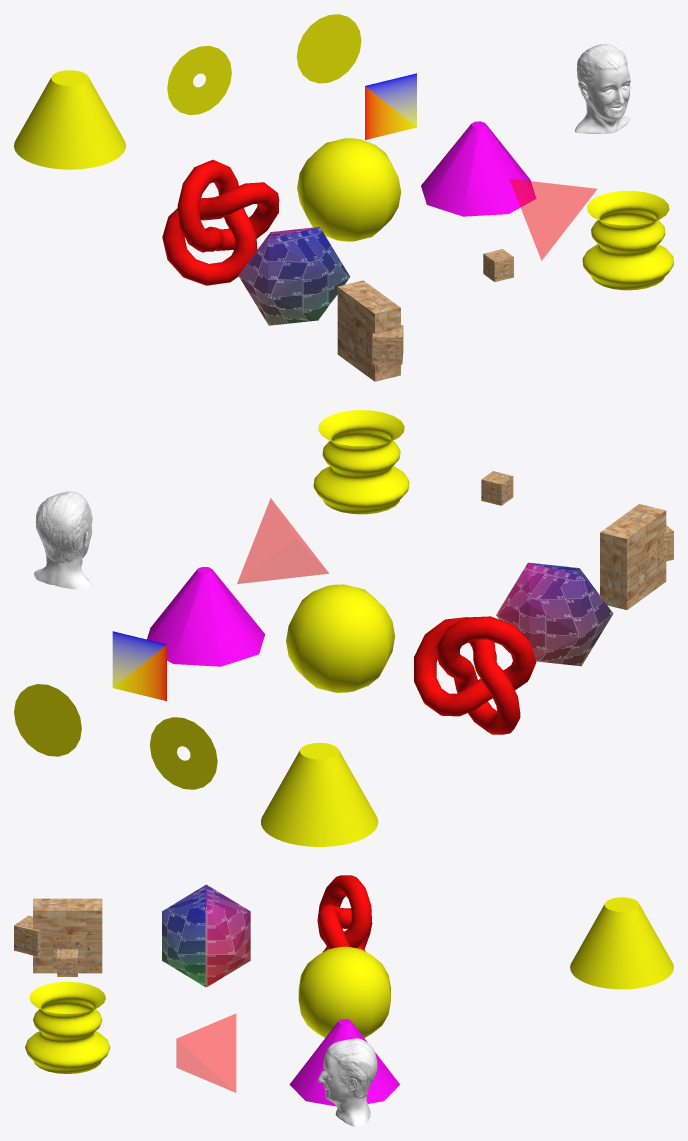
3 views of the same model, one above another, from view 1: azimuth 30°, elevation 25°; view 2: azimuth 150°, elevation 25°; view 3: azimuth 270°, elevation 25° (orthographic). The views are drawn at different scales.
Visible parts, largest first — view 1: Cylinder (×2), Sphere, Icosahedron, object 12, object 13, Cube, Mesh_Mesh_head_geo.001_lambert2SG.001, Tetrahedron, object 10, object 11, Custom buffered truncated, SubCube (+1 smaller); view 2: Cylinder (×2), Sphere, object 12, object 13, Icosahedron, Cube, Mesh_Mesh_head_geo.001_lambert2SG.001, Tetrahedron, object 10, object 11, Custom buffered truncated, Cube in group; view 3: Icosahedron, Sphere, object 12, object 13, Cylinder (×2), Cube, Mesh_Mesh_head_geo.001_lambert2SG.001, Tetrahedron, SubCube, Cube in group.
Part boxes in pixels (left/top/right/bottom): Cylinder (×2): left=162, top=121, right=536, bottom=285; Sphere: left=297, top=138, right=401, bottom=241; Icosahedron: left=238, top=227, right=349, bottom=325; object 12: left=14, top=70, right=125, bottom=169; object 13: left=582, top=190, right=673, bottom=290; Cube: left=337, top=280, right=400, bottom=381; Mesh_Mesh_head_geo.001_lambert2SG.001: left=575, top=44, right=630, bottom=133; Tetrahedron: left=509, top=179, right=596, bottom=260; object 10: left=296, top=14, right=361, bottom=83; object 11: left=167, top=45, right=231, bottom=114; Custom buffered truncated: left=365, top=73, right=416, bottom=139; SubCube: left=372, top=325, right=403, bottom=364; Cylinder (×2): left=147, top=567, right=536, bottom=734; Sphere: left=286, top=584, right=394, bottom=692; object 12: left=261, top=743, right=378, bottom=846; object 13: left=313, top=410, right=409, bottom=514; Icosahedron: left=496, top=562, right=613, bottom=666; Cube: left=600, top=504, right=666, bottom=609; Mesh_Mesh_head_geo.001_lambert2SG.001: left=34, top=491, right=92, bottom=589; Tetrahedron: left=237, top=498, right=328, bottom=583; object 10: left=14, top=684, right=81, bottom=756; object 11: left=150, top=717, right=217, bottom=789; Custom buffered truncated: left=112, top=631, right=166, bottom=701; Cube in group: left=481, top=471, right=513, bottom=505; Icosahedron: left=162, top=884, right=250, bottom=987; Sphere: left=298, top=946, right=390, bottom=1037; object 12: left=570, top=897, right=673, bottom=989; object 13: left=25, top=981, right=110, bottom=1073; Cylinder (×2): left=289, top=875, right=399, bottom=1106; Cube: left=33, top=898, right=102, bottom=973; Mesh_Mesh_head_geo.001_lambert2SG.001: left=317, top=1038, right=377, bottom=1126; Tetrahedron: left=176, top=1013, right=236, bottom=1092; SubCube: left=14, top=915, right=40, bottom=956; Cube in group: left=57, top=949, right=77, bottom=976.
Size of the model in its own units: 717 by 198 by 953.
9 materials, 2 textured.
